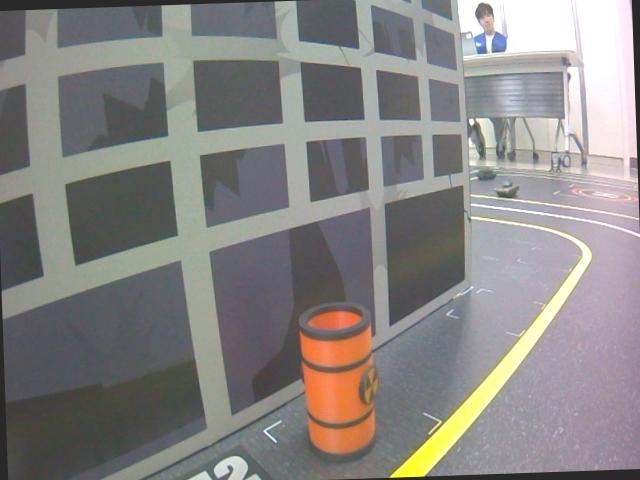Hazmat: (295, 296, 387, 480)
Tank: (492, 177, 525, 202), (476, 164, 498, 182)
